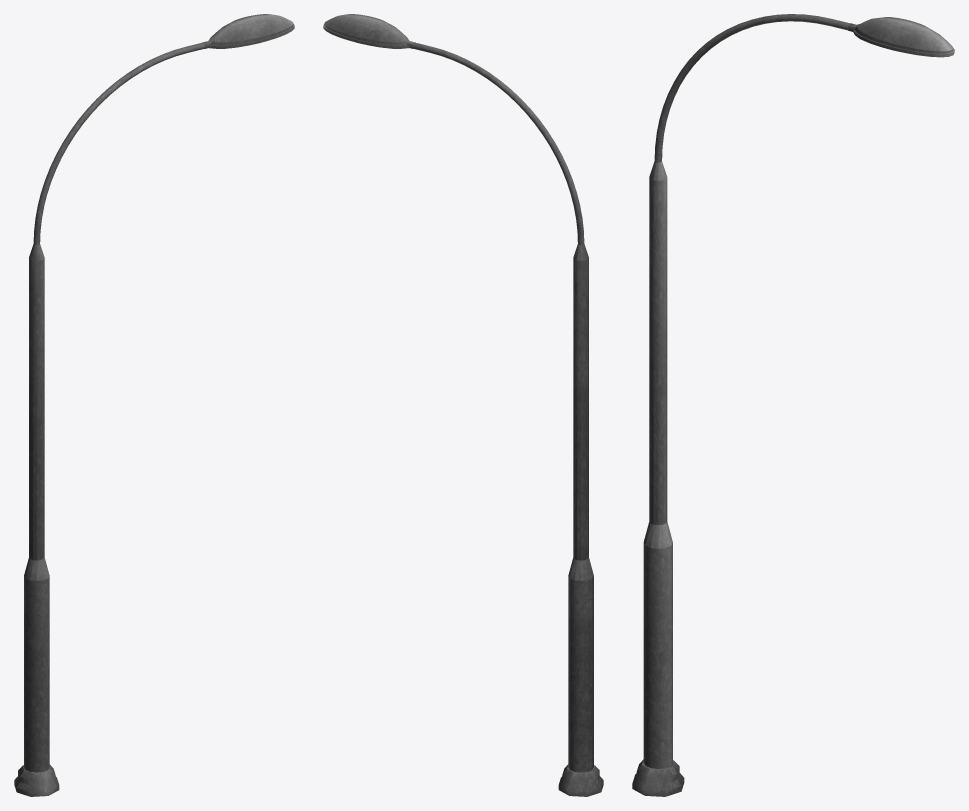
3 renders of one model, left to right at view 1: azimuth 30°, elevation 25°; view 2: azimuth 150°, elevation 25°; view 3: azimuth 330°, elevation 25°, orthographic. The views are drawn at different scales.
Parts seen in each view (by area): view 1: MainBuilding; view 2: MainBuilding; view 3: MainBuilding.
Part boxes in pixels (left/top/right/bottom): MainBuilding: left=14, top=14, right=294, bottom=796; MainBuilding: left=323, top=14, right=603, bottom=796; MainBuilding: left=632, top=14, right=954, bottom=796.
Size of the model in its own units: 3.63 by 8.98 by 0.529.
1 material, 1 textured.
